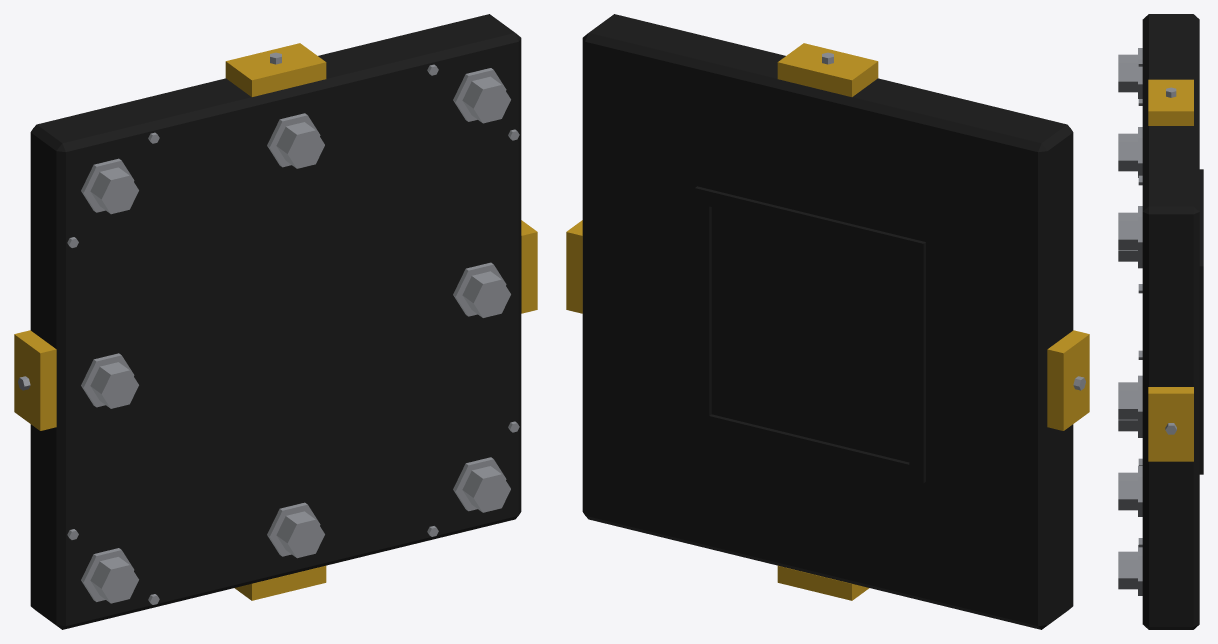
The model's file is kt1_flange.obj.
3 renders of one model, left to right at view 1: azimuth 30°, elevation 25°; view 2: azimuth 150°, elevation 25°; view 3: azimuth 270°, elevation 25°, orthographic. The views are drawn at different scales.
Parts seen in each view (by area): view 1: kt1_flange; view 2: kt1_flange; view 3: kt1_flange.
Boxes of the visible parts, x1,y1,x2,y2 form: kt1_flange: [14, 14, 537, 629]; kt1_flange: [566, 14, 1089, 629]; kt1_flange: [1118, 14, 1203, 629].
Bounding box in the file's own units: 2.52 × 2.52 × 0.4207.
